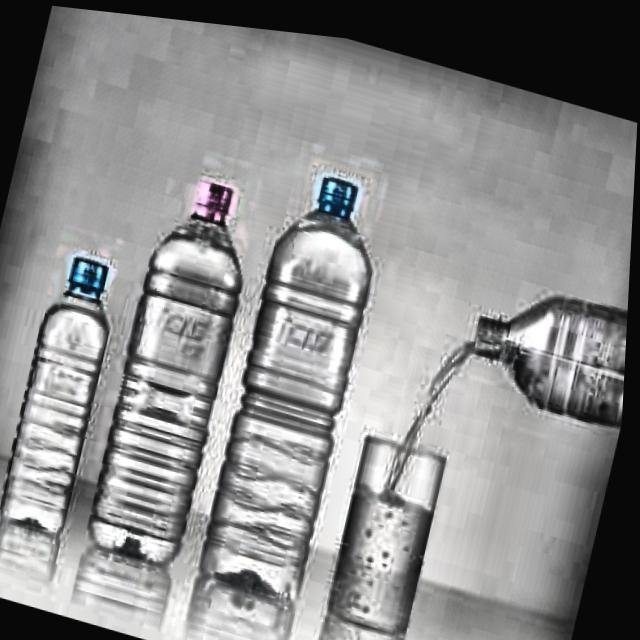Bottles: (191, 135, 408, 622), (75, 132, 282, 579), (0, 216, 147, 550)
